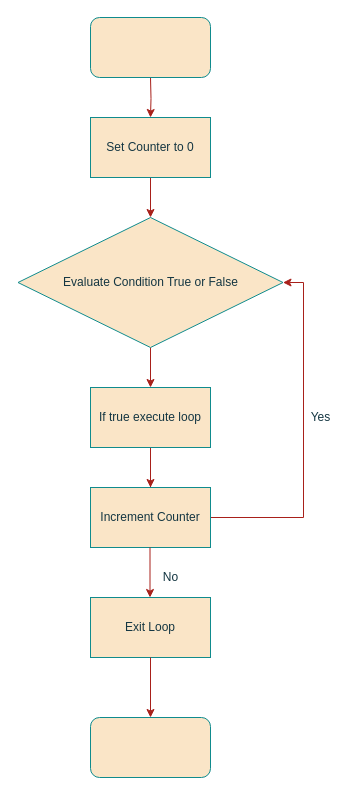
This 357x795 diagram has some shape labels left out. The shapes that lost their labels are listed below. From the top down, each one's centre as x and y in pixels, then its label:
At [150,47]: "Start".
At [150,747]: "END".
